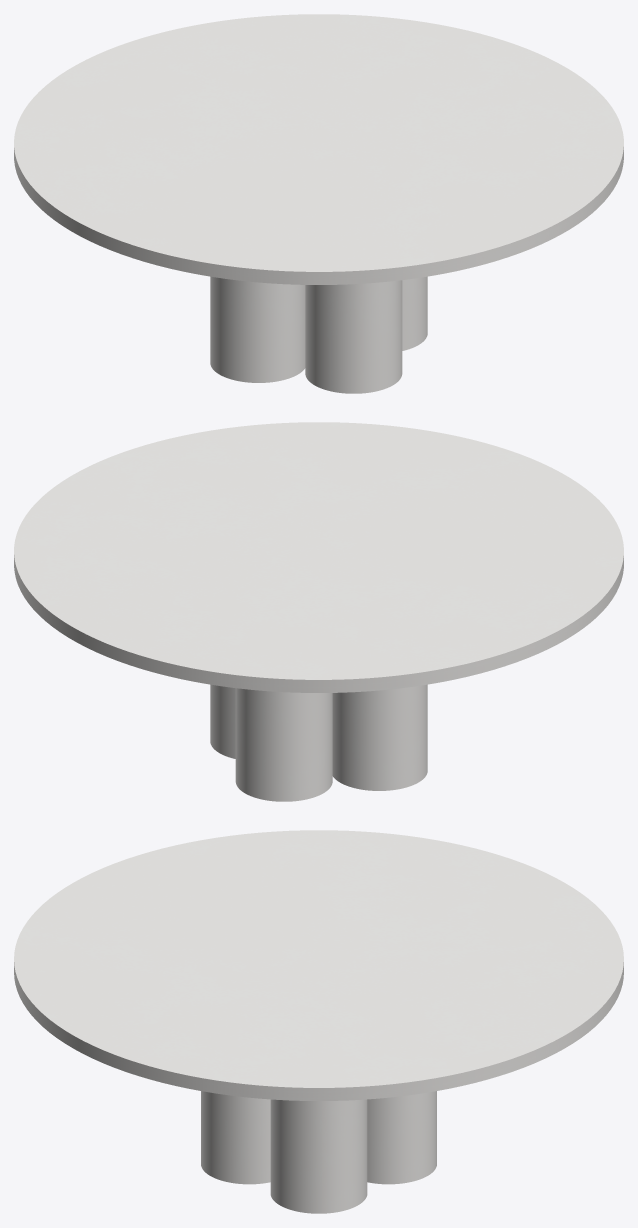
File: purewhite_round_standard_secondtable.glb
The picture shows the model from 3 angles, top to bottom: view 1: azimuth 30°, elevation 25°; view 2: azimuth 150°, elevation 25°; view 3: azimuth 270°, elevation 25°; orthographic projection.
Parts seen in each view (by area): view 1: standard_round, secondtable; view 2: standard_round, secondtable; view 3: standard_round, secondtable.
Boxes of the visible parts, x1,y1,x2,y2 form: standard_round: [14, 14, 623, 284]; secondtable: [210, 276, 427, 393]; standard_round: [14, 422, 623, 692]; secondtable: [210, 684, 427, 801]; standard_round: [14, 830, 623, 1100]; secondtable: [201, 1091, 436, 1213].
Size of the model in its own units: 6.75 by 2.5 by 6.75.
1 material, 1 textured.
